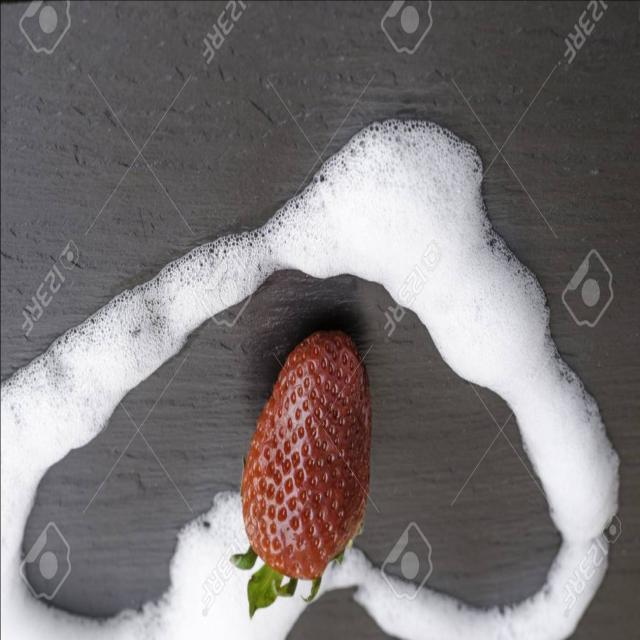strawberry: (222, 290, 402, 640)
